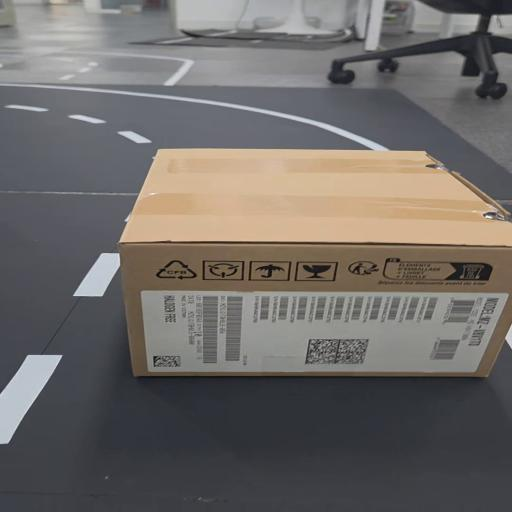Box: (96, 148, 512, 382)
